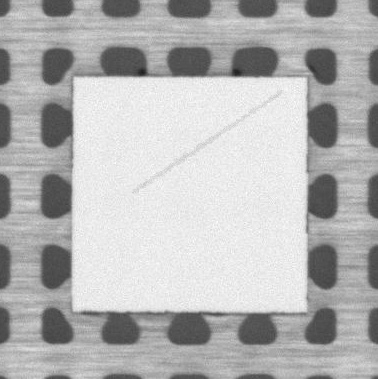DIE_CRACK: (133, 92, 281, 193)
